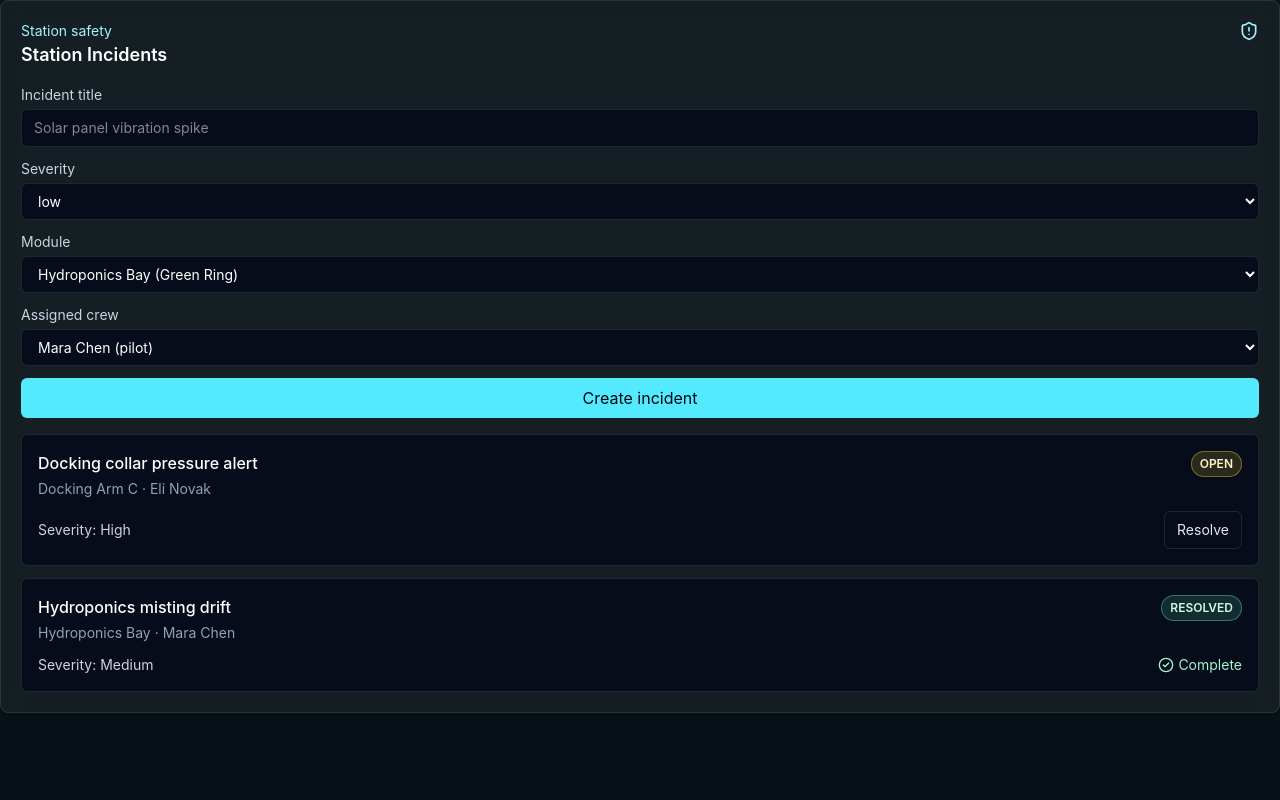
Scenario: StationIncidents › resolving an incident marks it resolved
Expected: the text "Docking collar pressure alert" is shown, [38, 451, 258, 475]
Click the button with aria-label "Resolve Docking collar pressure alert".
click(1203, 530)  # box [1164, 511, 1242, 549]
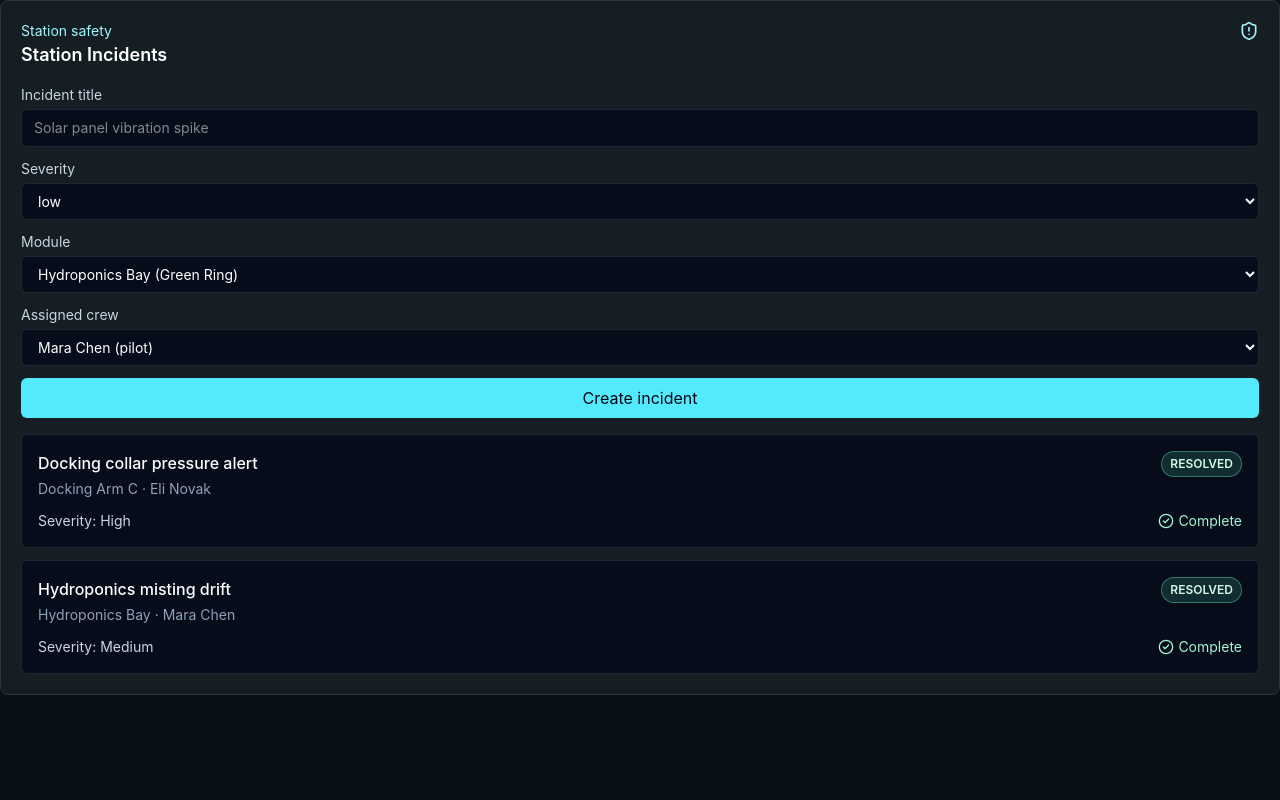
Expected: the text "Docking collar pressure alert" is shown, [38, 453, 258, 473]
Result: the text "resolved" in the row of "Docking collar pressure alert" is shown at [1170, 456, 1233, 471]
